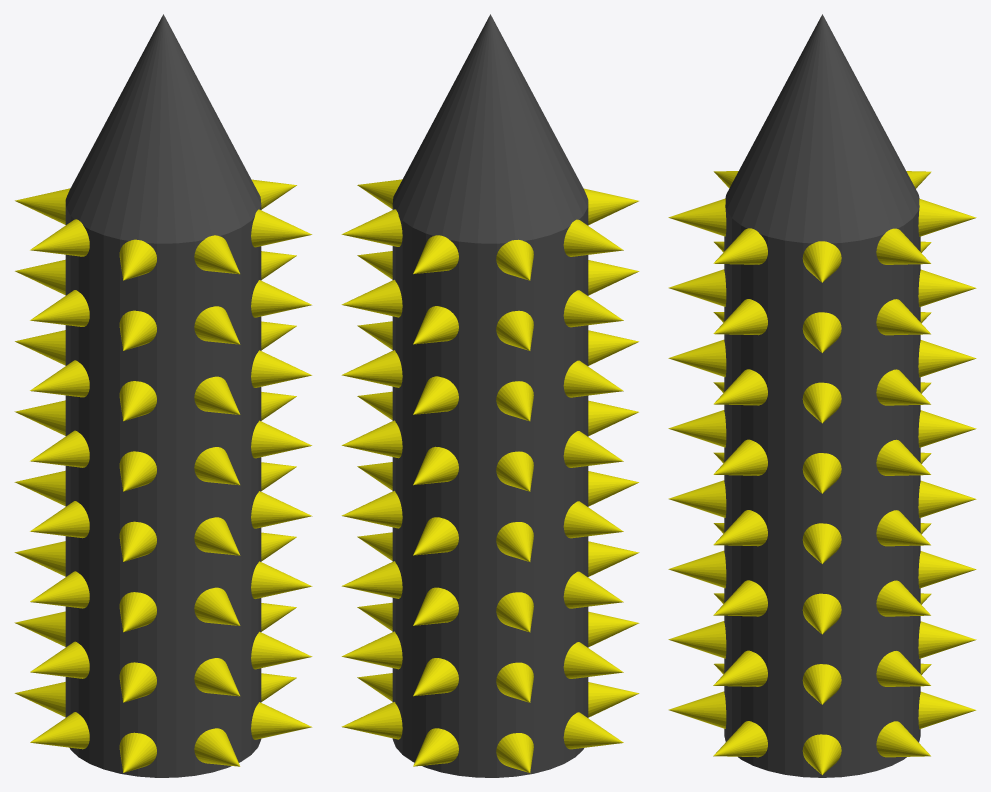
File: slide_stick.fbx
3 renders of one model, left to right at view 1: azimuth 30°, elevation 25°; view 2: azimuth 150°, elevation 25°; view 3: azimuth 270°, elevation 25°, orthographic.
Parts seen in each view (by area): view 1: 円柱, 円錐; view 2: 円柱, 円錐; view 3: 円柱, 円錐.
Boxes of the visible parts, <box> form: 円柱: <box>65,14,261,777</box>; 円錐: <box>14,179,312,772</box>; 円柱: <box>392,14,588,777</box>; 円錐: <box>341,179,639,772</box>; 円柱: <box>724,14,920,777</box>; 円錐: <box>668,171,976,774</box>.
Bounding box in the file's own units: 1.51 × 3.9 × 1.51.
